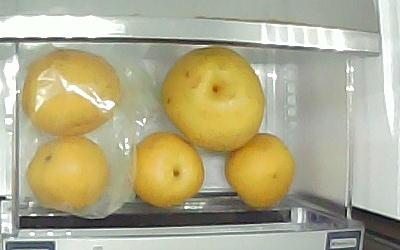pear: (162, 46, 265, 152), (128, 131, 206, 208), (226, 132, 296, 212)
pear_vinyl: (23, 50, 122, 136), (26, 137, 108, 209)
